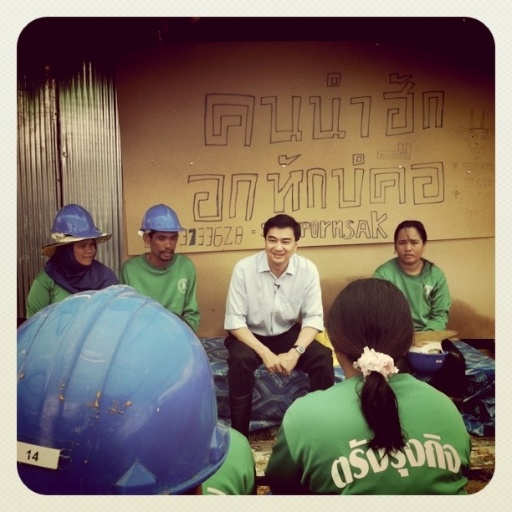hand: (262, 352, 291, 378), (278, 348, 296, 371)
